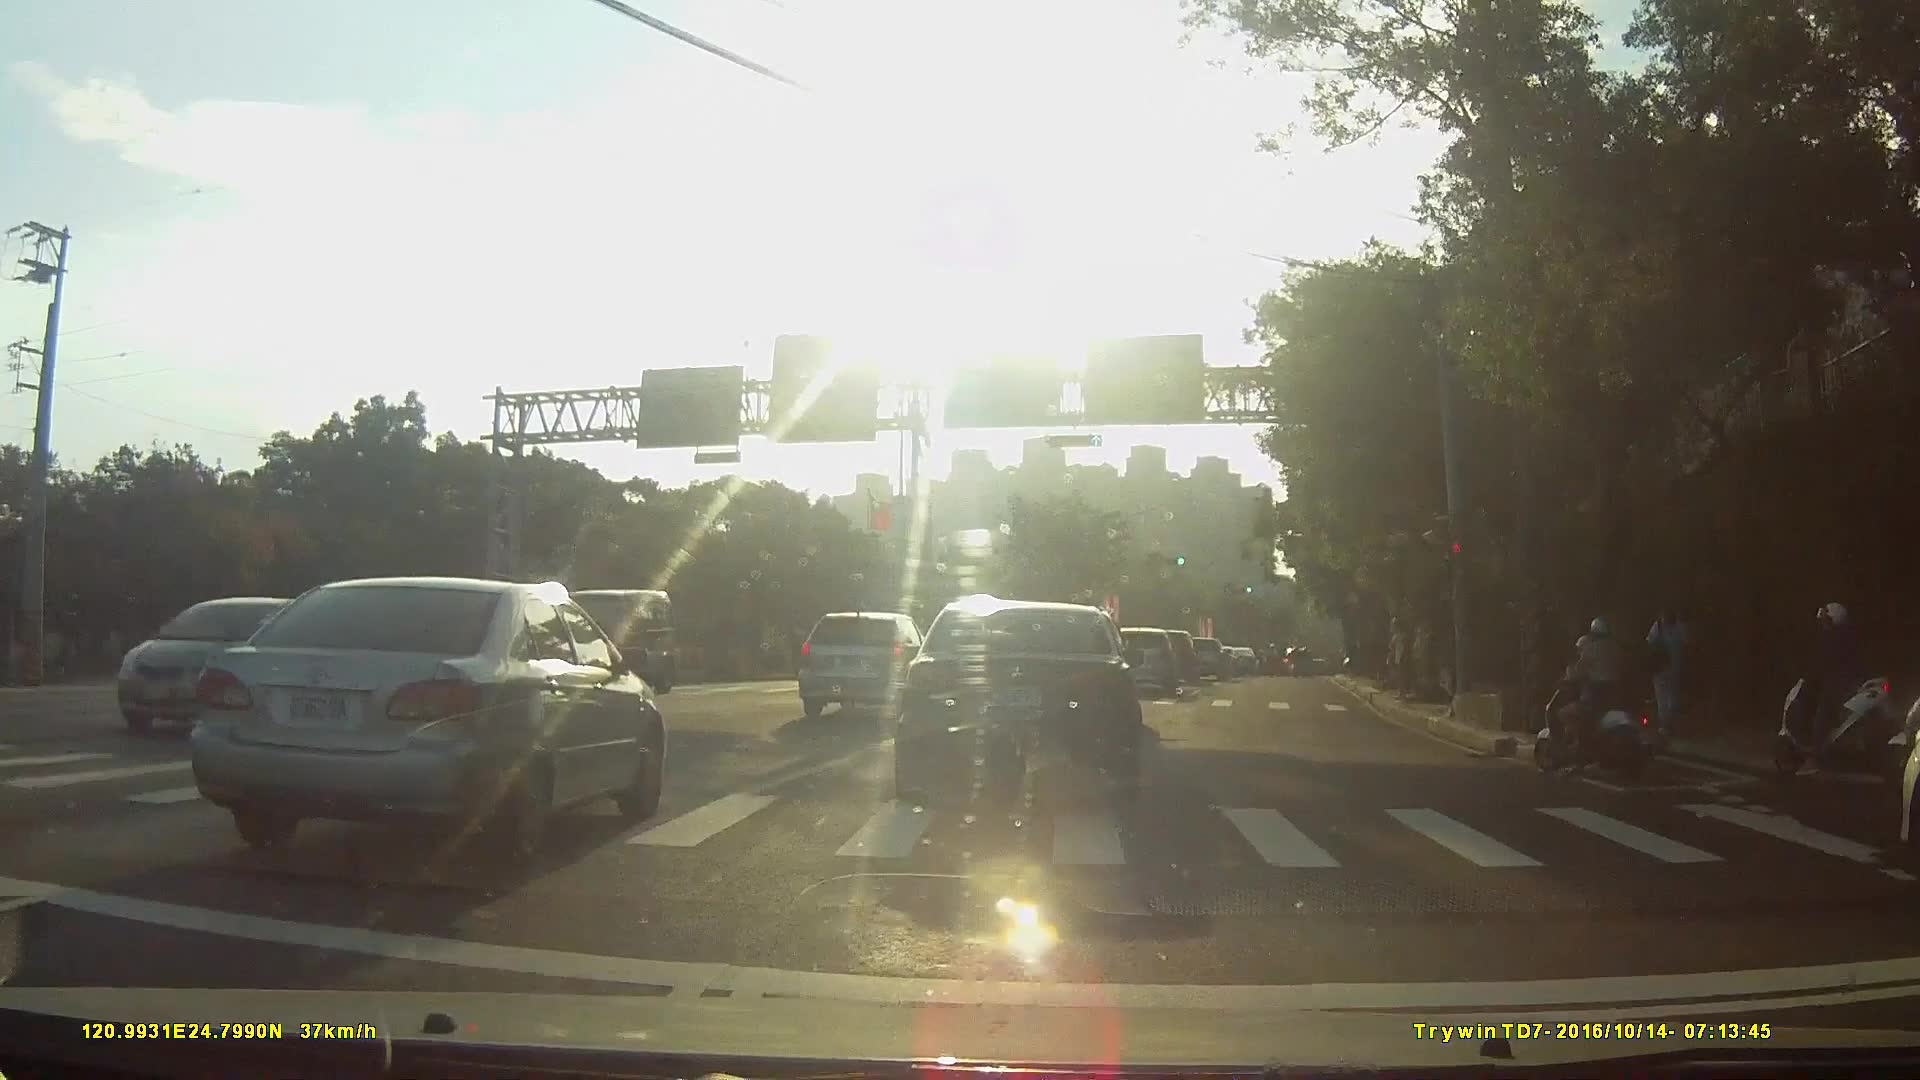pedestrian: (1638, 590, 1691, 734)
rider: (1778, 597, 1897, 780), (1539, 614, 1671, 780)
vehicle: (171, 573, 665, 867), (889, 594, 1139, 810), (108, 590, 342, 745), (515, 583, 681, 701), (796, 606, 942, 717), (1104, 626, 1178, 696), (1138, 628, 1200, 686), (1175, 634, 1225, 678), (1221, 647, 1258, 675)
